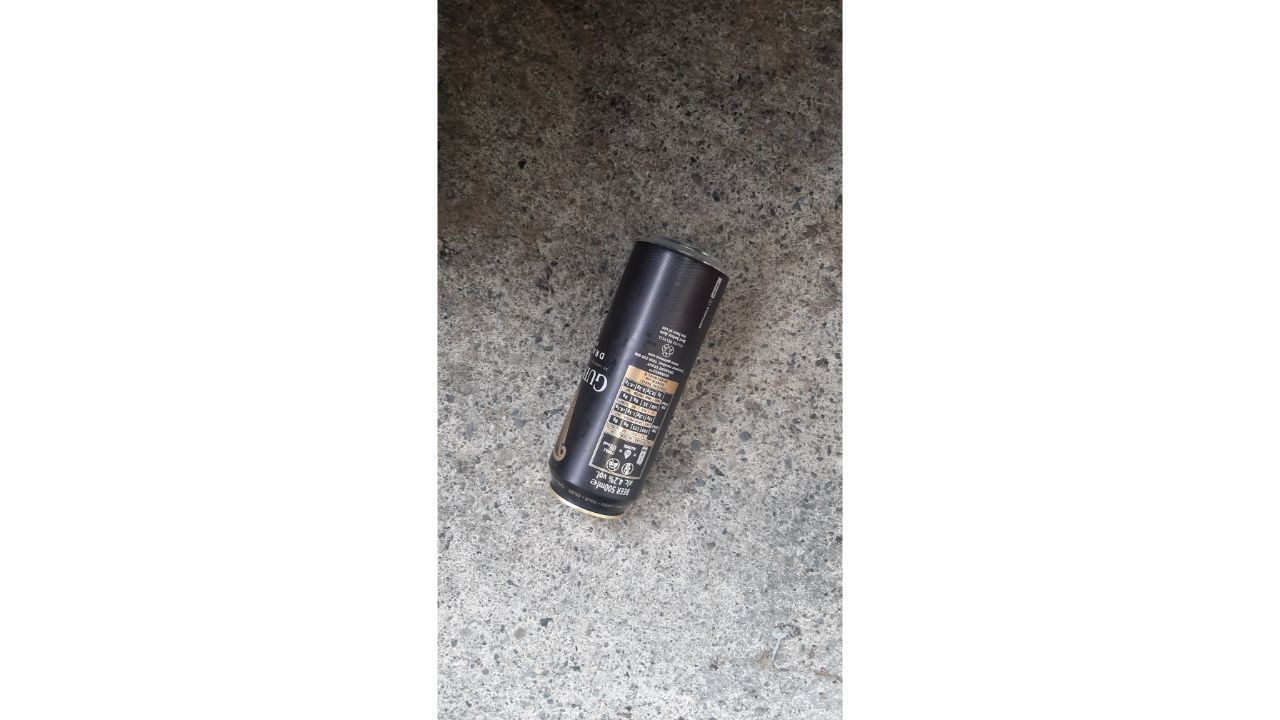Can: (535, 224, 742, 532)
